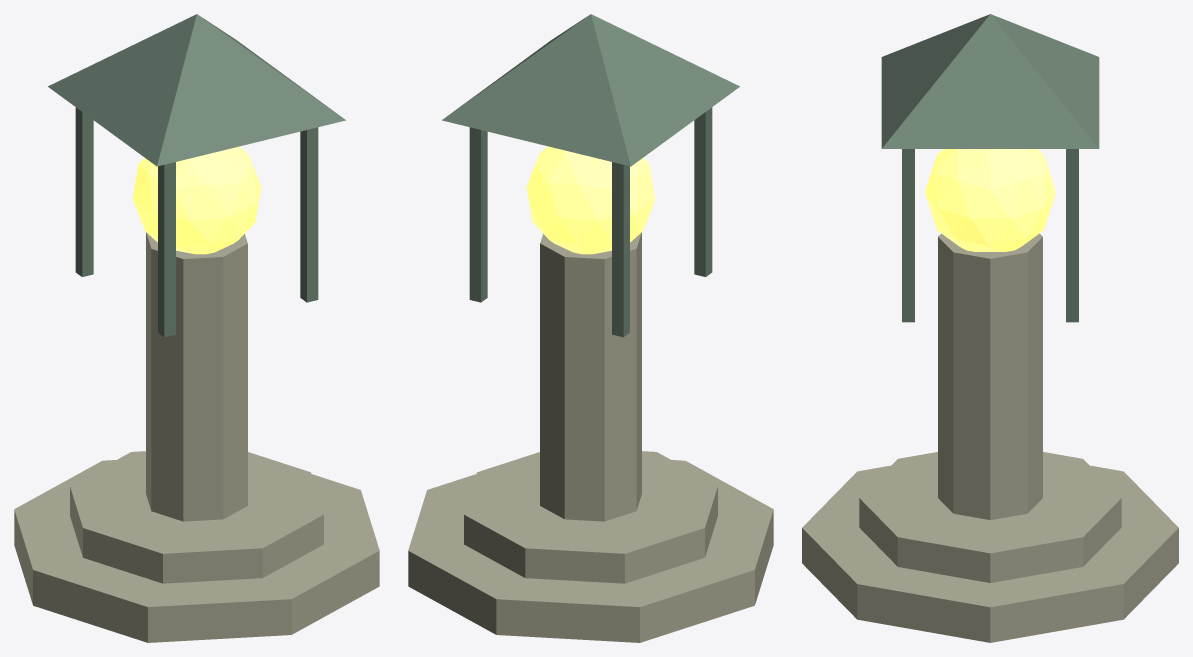
The model's file is beacon.glb.
3 views of the same model, side by side, from view 1: azimuth 30°, elevation 25°; view 2: azimuth 150°, elevation 25°; view 3: azimuth 270°, elevation 25° (orthographic).
Visible parts, largest first — view 1: Plinth, Plinth.002, Roof, Plinth.001, Signal, Frame.002, Frame, Frame.001; view 2: Plinth, Plinth.002, Roof, Plinth.001, Signal, Frame.003, Frame.001, Frame; view 3: Plinth, Plinth.002, Roof, Plinth.001, Signal, Frame.002, Frame.003.
Part boxes in pixels (box(x1,y1,x2,y2)): Plinth: box(14, 460, 379, 642); Plinth.002: box(146, 232, 247, 521); Roof: box(48, 14, 345, 166); Plinth.001: box(70, 451, 323, 583); Signal: box(132, 146, 261, 254); Frame.002: box(300, 127, 318, 302); Frame: box(158, 162, 175, 337); Frame.001: box(75, 107, 93, 276); Plinth: box(408, 460, 773, 642); Plinth.002: box(540, 232, 641, 521); Roof: box(442, 14, 739, 166); Plinth.001: box(464, 451, 717, 583); Signal: box(526, 146, 655, 254); Frame.003: box(469, 127, 487, 302); Frame.001: box(612, 162, 629, 337); Frame: box(694, 107, 712, 276); Plinth: box(802, 465, 1178, 642); Plinth.002: box(938, 233, 1042, 519); Roof: box(881, 14, 1099, 148); Plinth.001: box(859, 452, 1121, 582); Signal: box(925, 149, 1055, 251); Frame.002: box(902, 149, 914, 322); Frame.003: box(1066, 149, 1078, 322).
Size of the model in its own units: 2.3 by 3.7 by 2.3.
